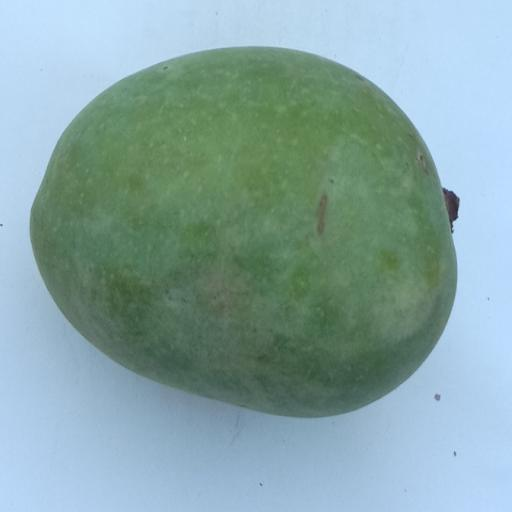mango-unripe: (16, 36, 487, 447)
